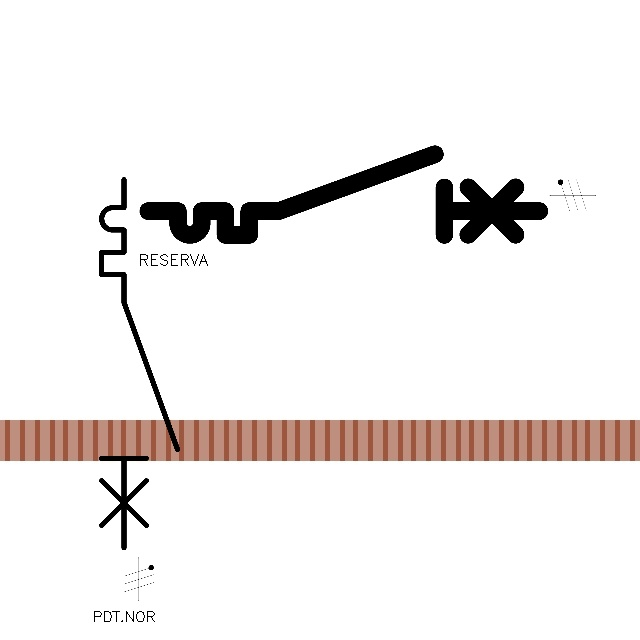interruptor_termomagnetico: (138, 144, 549, 245), (92, 170, 187, 557)
